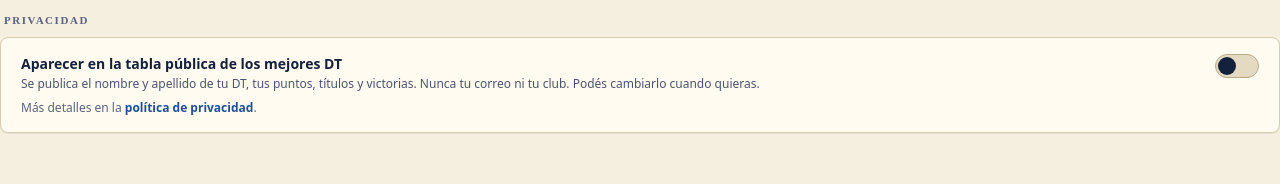
Scenario: privacidad: aparecer en la tabla pública › al activar el consentimiento genera la dirección del perfil
The width and height of the screenshot is (1280, 184).
Click the switch named "aparecer en la tabla pública".
click(1237, 66)  # box left=1215, top=54, right=1259, bottom=78
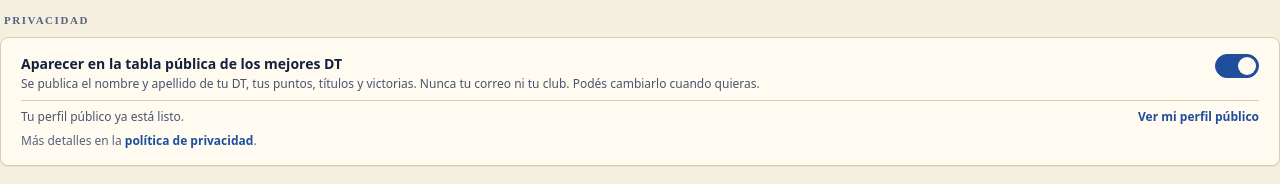
Now the link "Ver mi perfil público" is shown, box left=1138, top=108, right=1259, bottom=124
